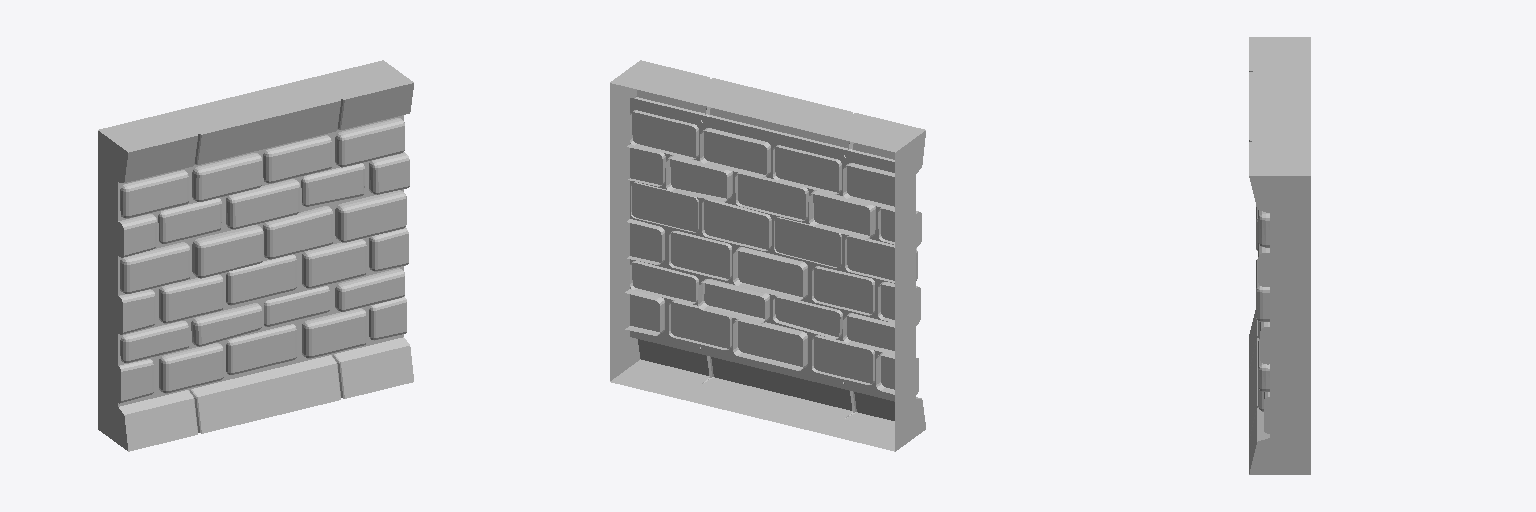
File: wallSingle.obj
3 views of the same model, side by side, from view 1: azimuth 30°, elevation 25°; view 2: azimuth 150°, elevation 25°; view 3: azimuth 270°, elevation 25° (orthographic).
Visible parts, largest first — view 1: wallSingle_Cube.2608; view 2: wallSingle_Cube.2608; view 3: wallSingle_Cube.2608.
Part boxes in pixels (x1,y1,x2,y2): wallSingle_Cube.2608: (98,60,413,451); wallSingle_Cube.2608: (610,60,925,451); wallSingle_Cube.2608: (1249,37,1310,474).
Size of the model in its own units: 4 by 4 by 0.75.